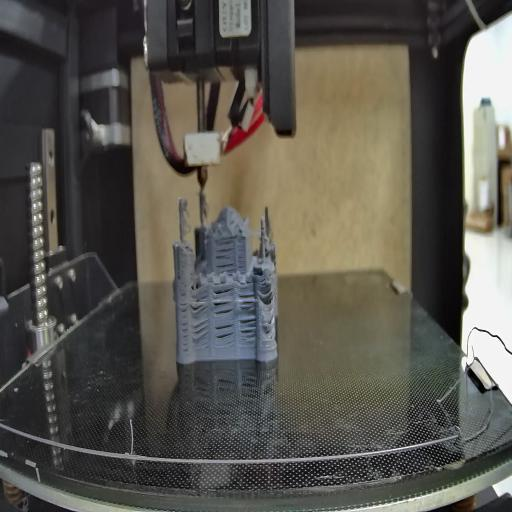cracks: (238, 290, 256, 344), (216, 234, 237, 274), (180, 288, 189, 358), (214, 286, 234, 315), (190, 283, 209, 313), (215, 322, 235, 344), (193, 320, 210, 342), (260, 312, 274, 334), (260, 283, 274, 304)
